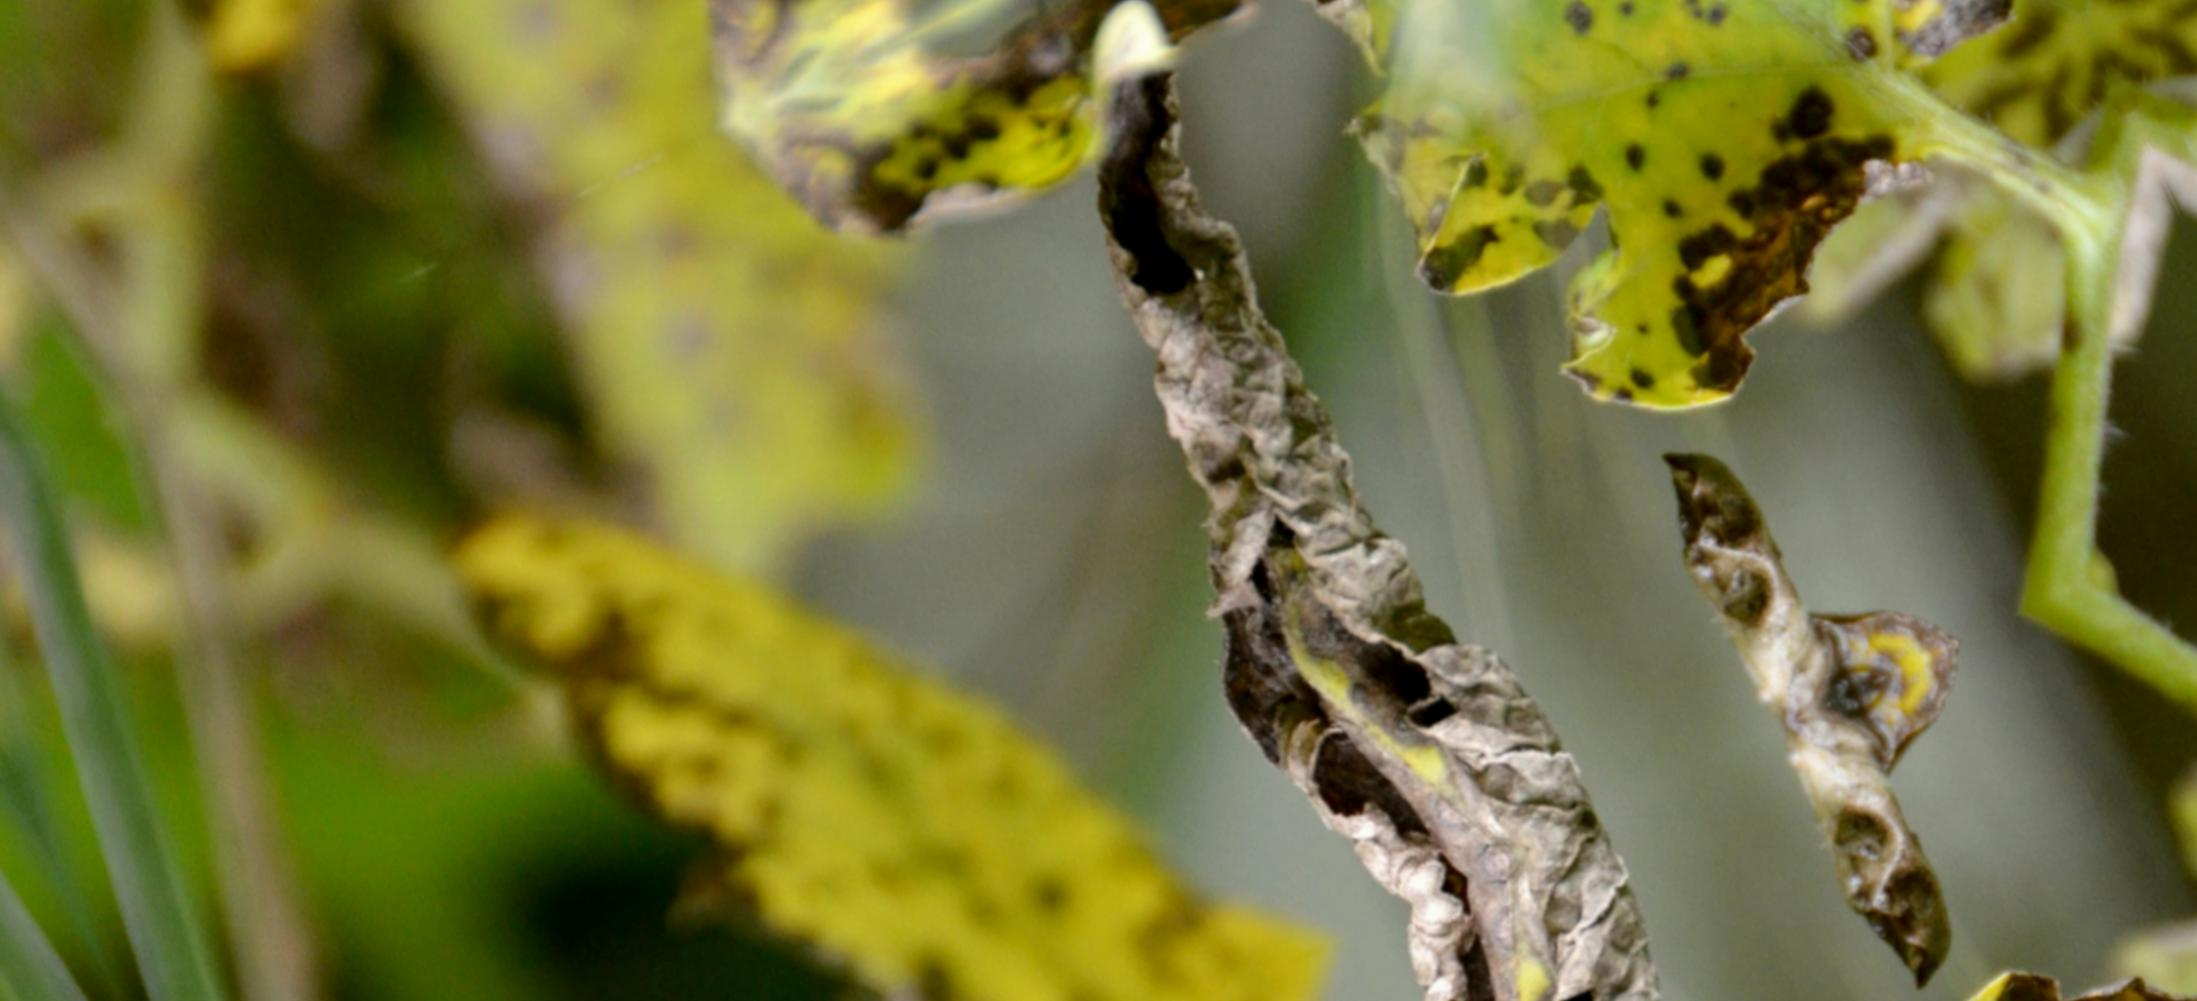Tomato Septoria leaf spot: (464, 222, 1501, 1001), (1094, 0, 2162, 550)
